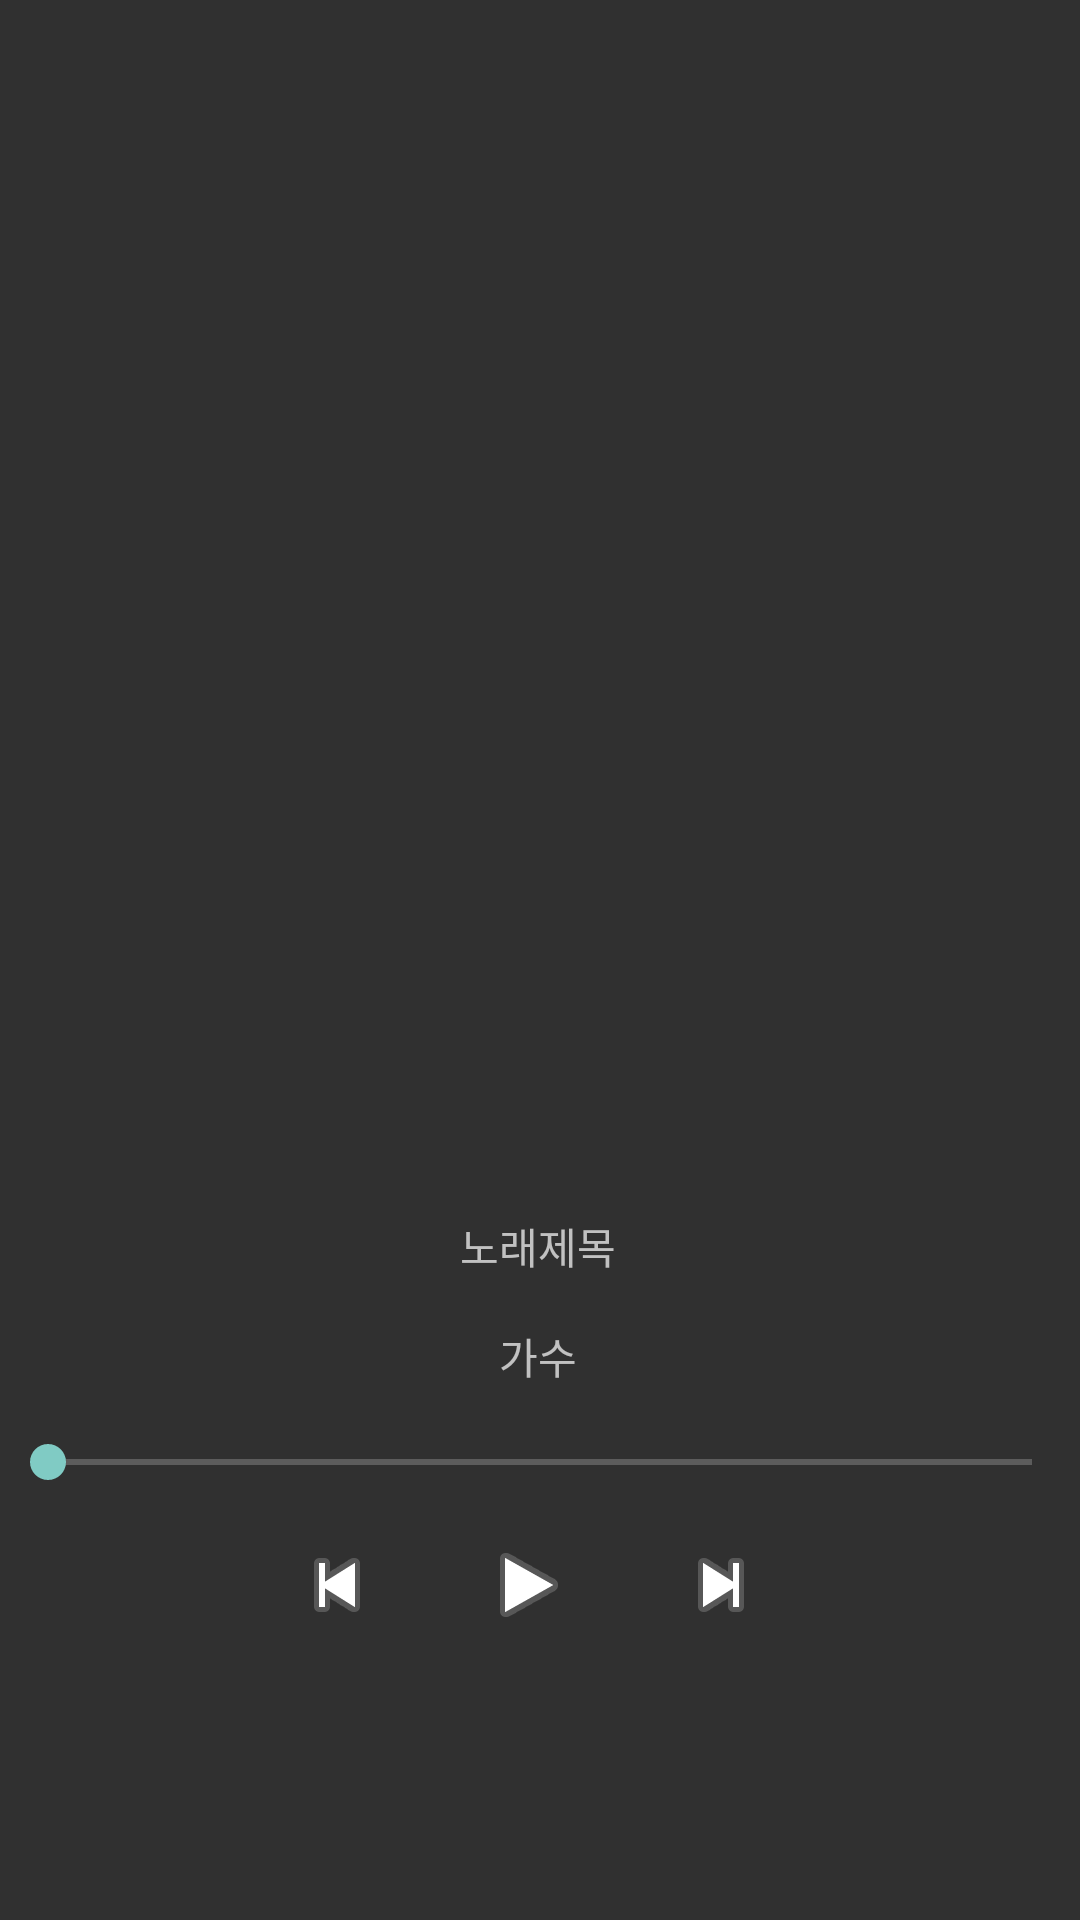

Named icons in this screenshot (1080 x 1920) and their bounding boxes, (x1, y1, x2, y2):
next: (698, 1558, 744, 1612)
play: (500, 1553, 558, 1617)
previous: (314, 1558, 360, 1612)
